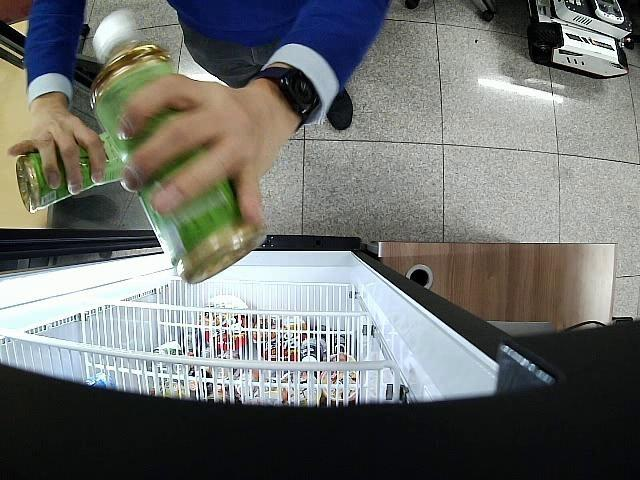19_17cha: (88, 10, 268, 286), (17, 134, 124, 212)
